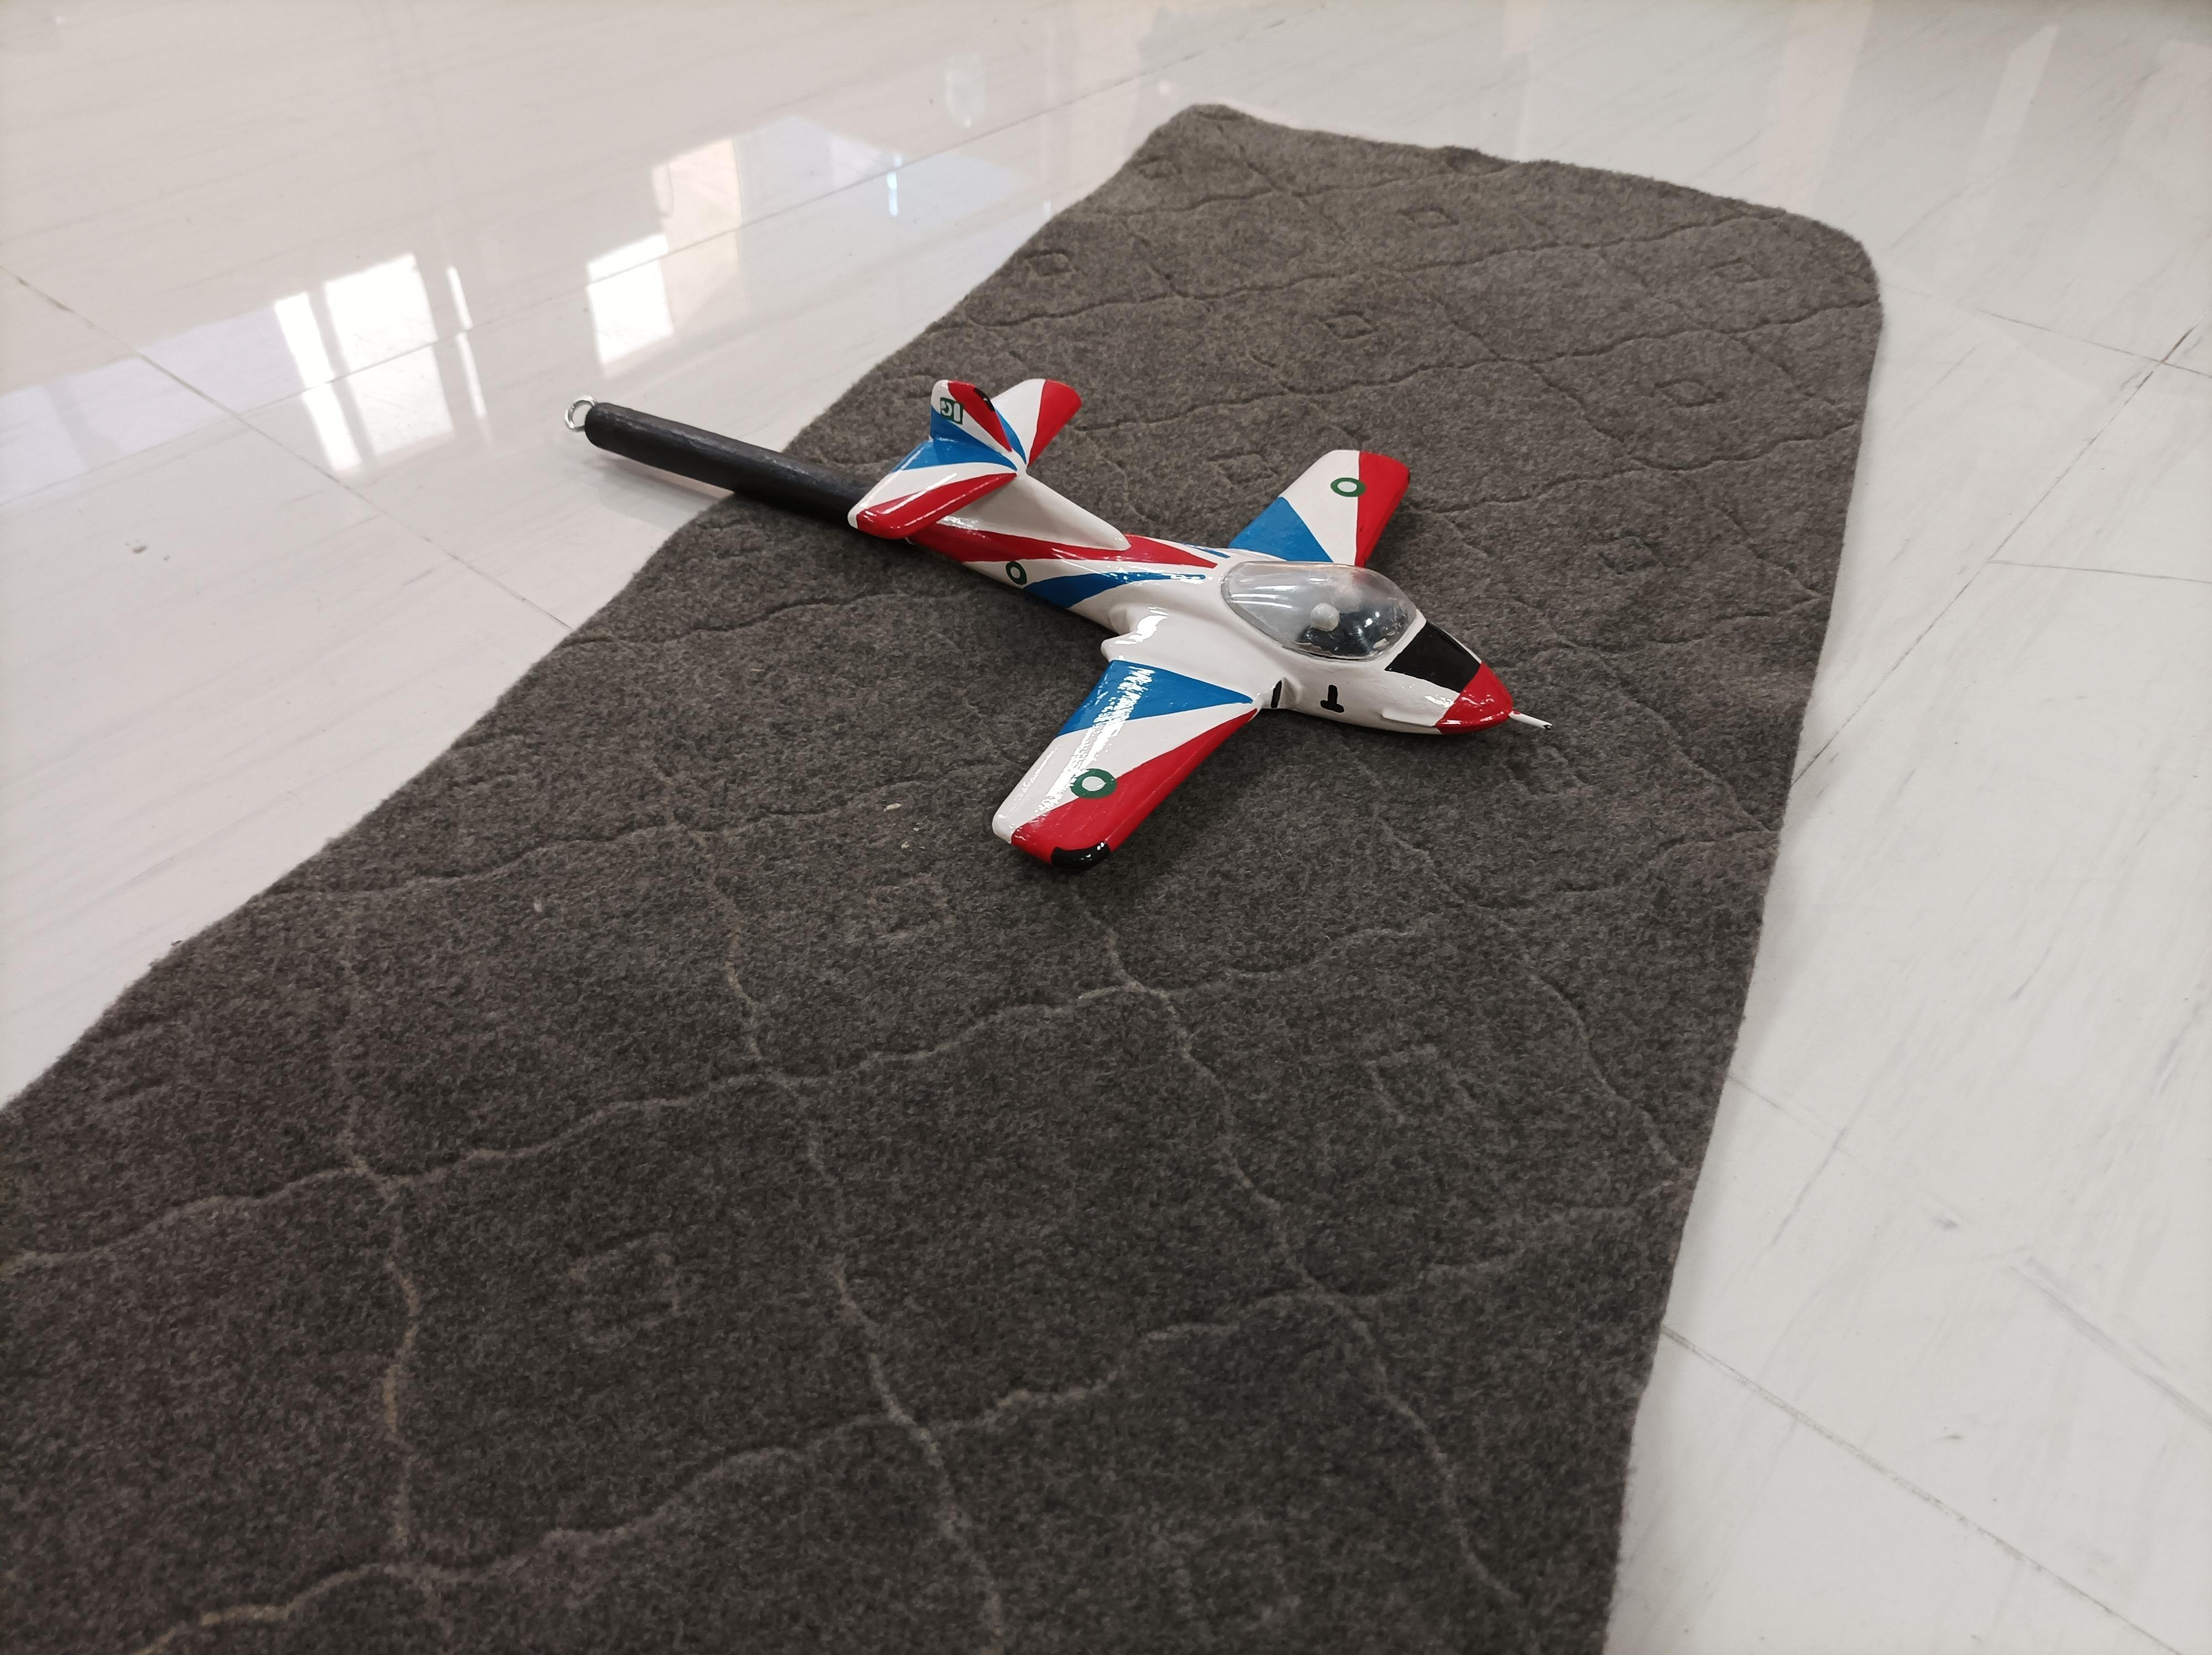Airplane: (827, 318, 1567, 883)
